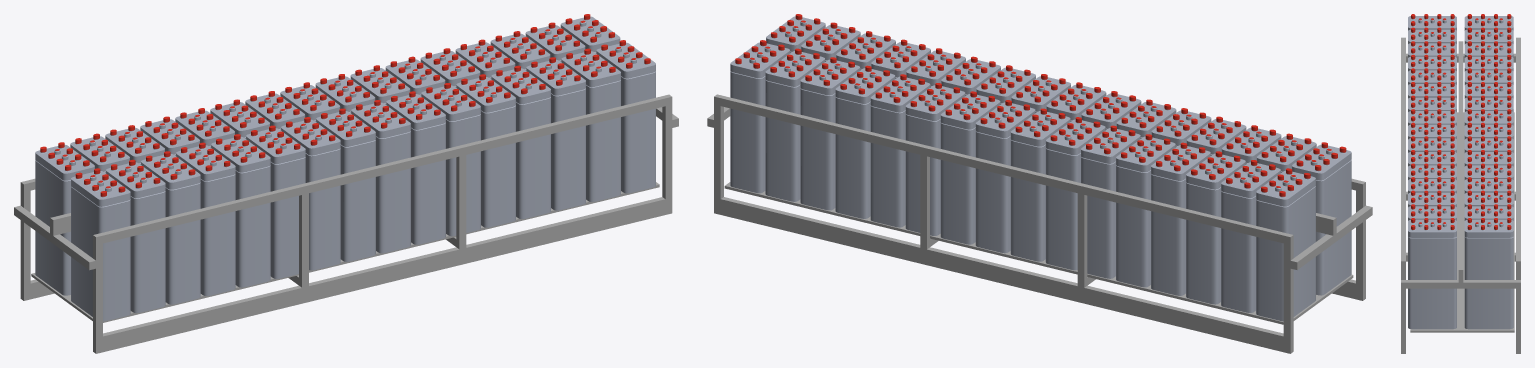
3 views of the same model, side by side, from view 1: azimuth 30°, elevation 25°; view 2: azimuth 150°, elevation 25°; view 3: azimuth 270°, elevation 25° (orthographic). The views are drawn at different scales.
Parts seen in each view (by area): view 1: RM520, Box045; view 2: RM520, Box045; view 3: RM520, Box045.
Boxes of the visible parts, x1,y1,x2,y2 form: RM520: (35,14,655,321); Box045: (14,94,678,353); RM520: (730,14,1351,321); Box045: (707,94,1372,353); RM520: (1408,14,1513,329); Box045: (1401,37,1520,353).
Bounding box in the file's own units: 2.7 × 0.6687 × 0.5983.
